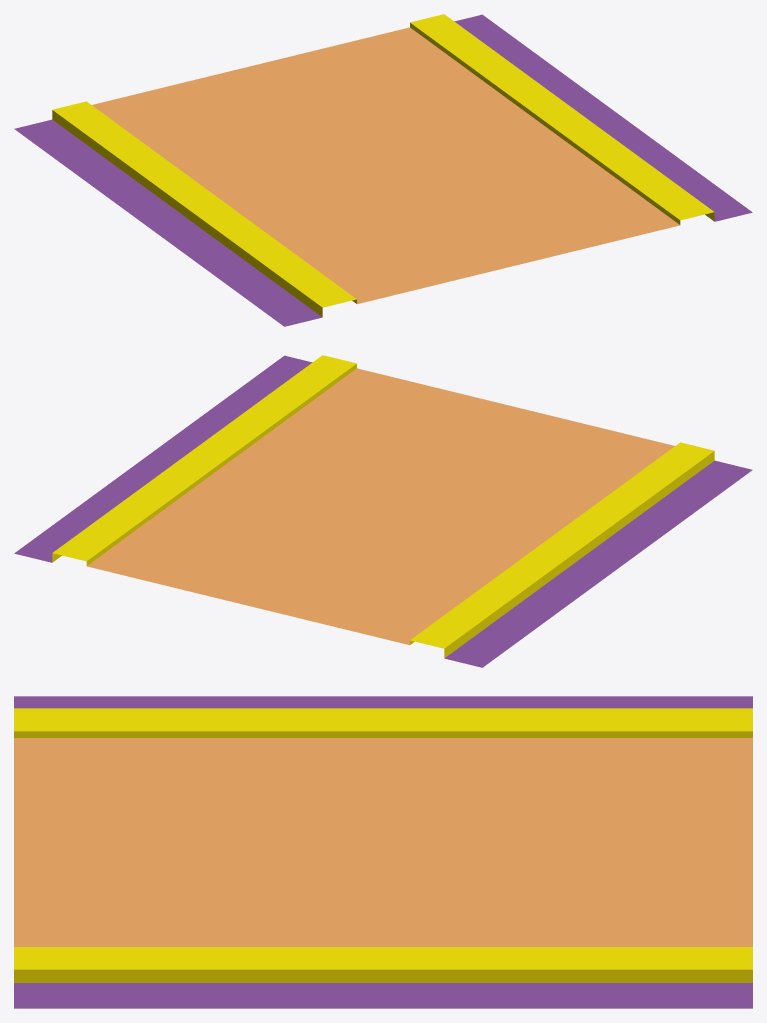
Rendered from roadStraight.glb.
3 views of the same model, one above another, from view 1: azimuth 30°, elevation 25°; view 2: azimuth 150°, elevation 25°; view 3: azimuth 270°, elevation 25° (orthographic). The views are drawn at different scales.
Parts seen in each view (by area): view 1: roadStraight(Clone); view 2: roadStraight(Clone); view 3: roadStraight(Clone).
Part boxes in pixels (bbox=[...]): roadStraight(Clone): bbox=[14, 14, 752, 326]; roadStraight(Clone): bbox=[14, 355, 752, 667]; roadStraight(Clone): bbox=[14, 696, 752, 1008].
Size of the model in its own units: 1 by 0.02 by 1.
